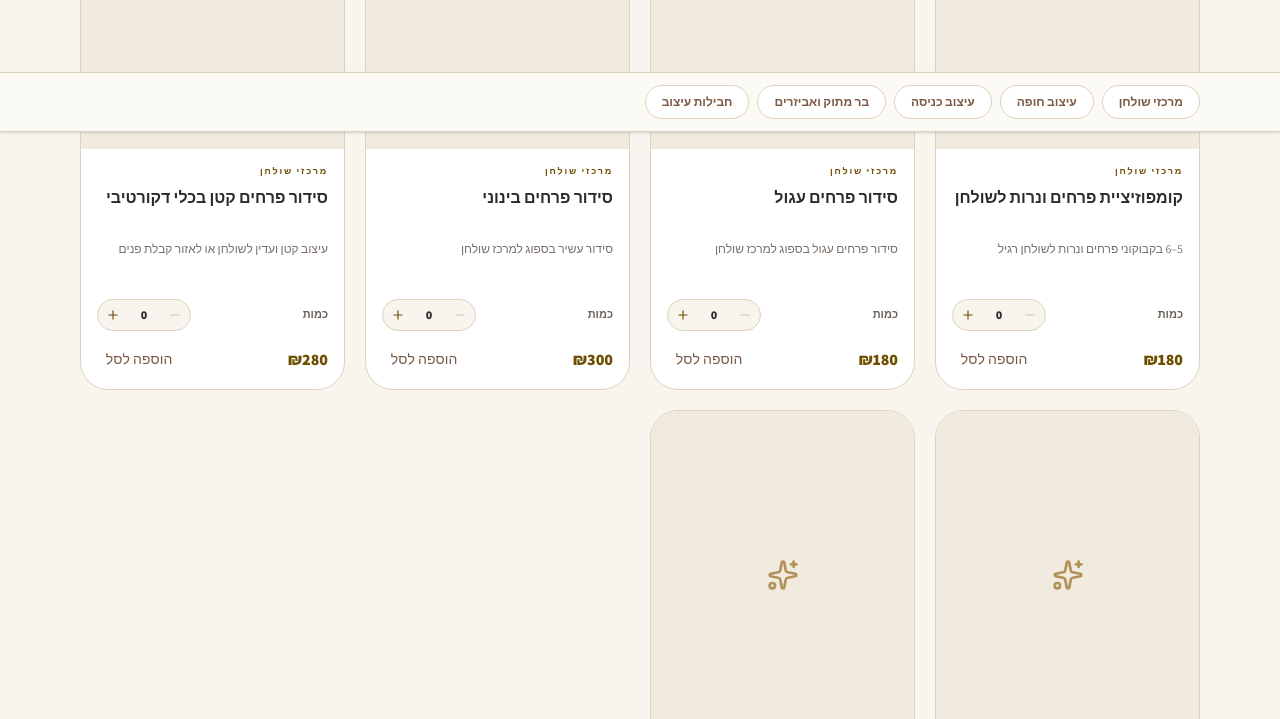
Test case: HomePage › keeps one explicit add-to-cart button per product and supports quantity controls
(page scrolled)
Click the button "הוספה לסל" below "5–6 בקבוקוני פרחים ונרות לשולחן רגיל" at (994, 360), box [952, 347, 1036, 373]
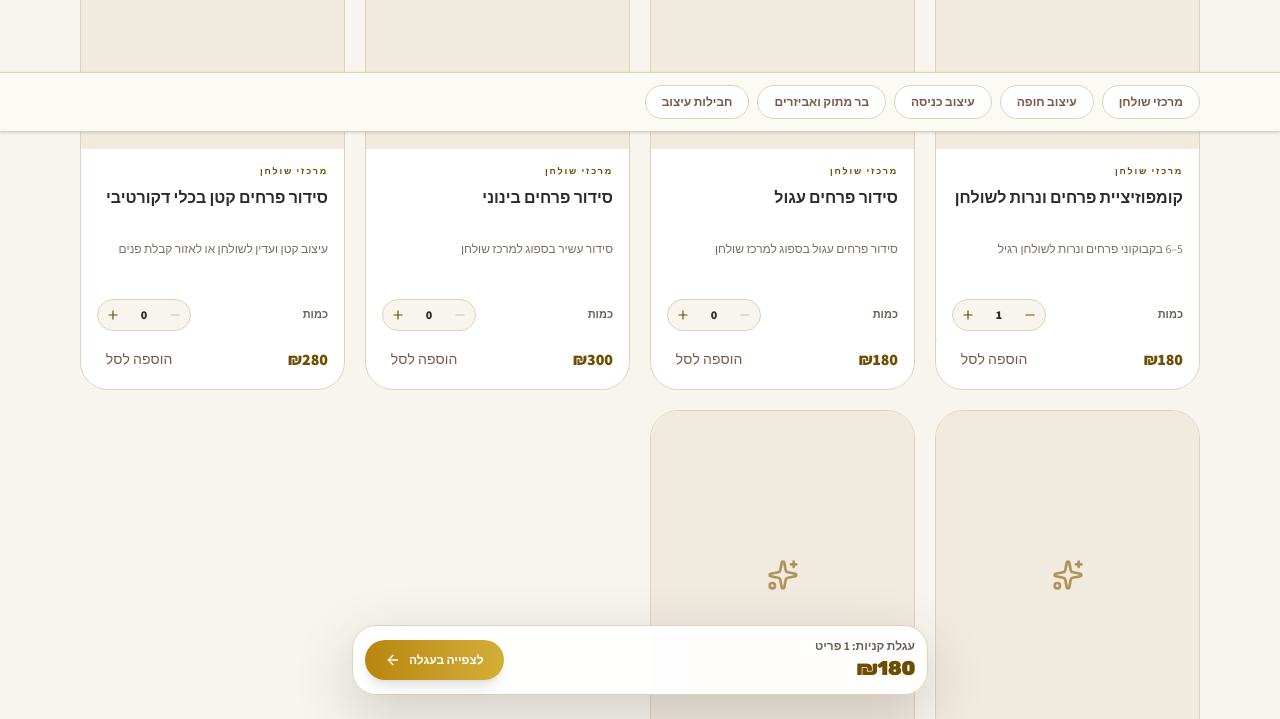
Click the button named "הגדלת כמות קומפוזיציית פרחים ונרות לשולחן" at (968, 315), box [953, 300, 983, 330]
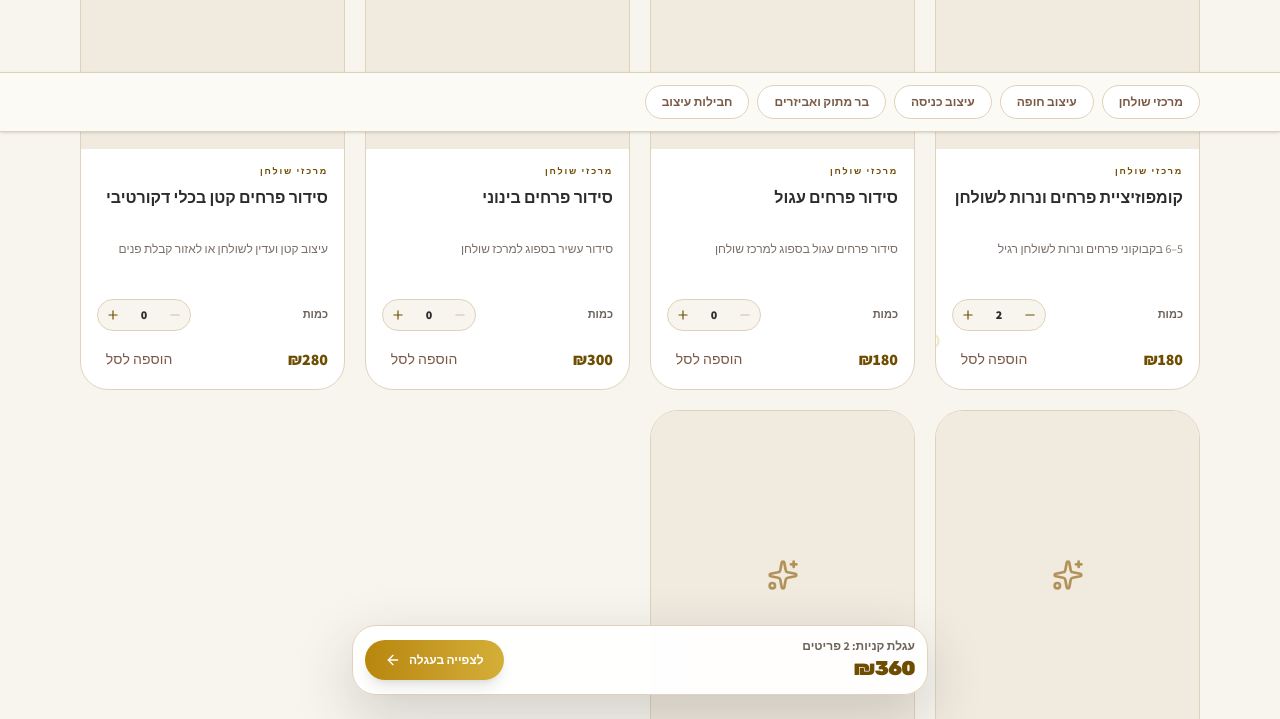
Click the button named "הפחתת כמות קומפוזיציית פרחים ונרות לשולחן" at (1030, 315), box [1015, 300, 1045, 330]
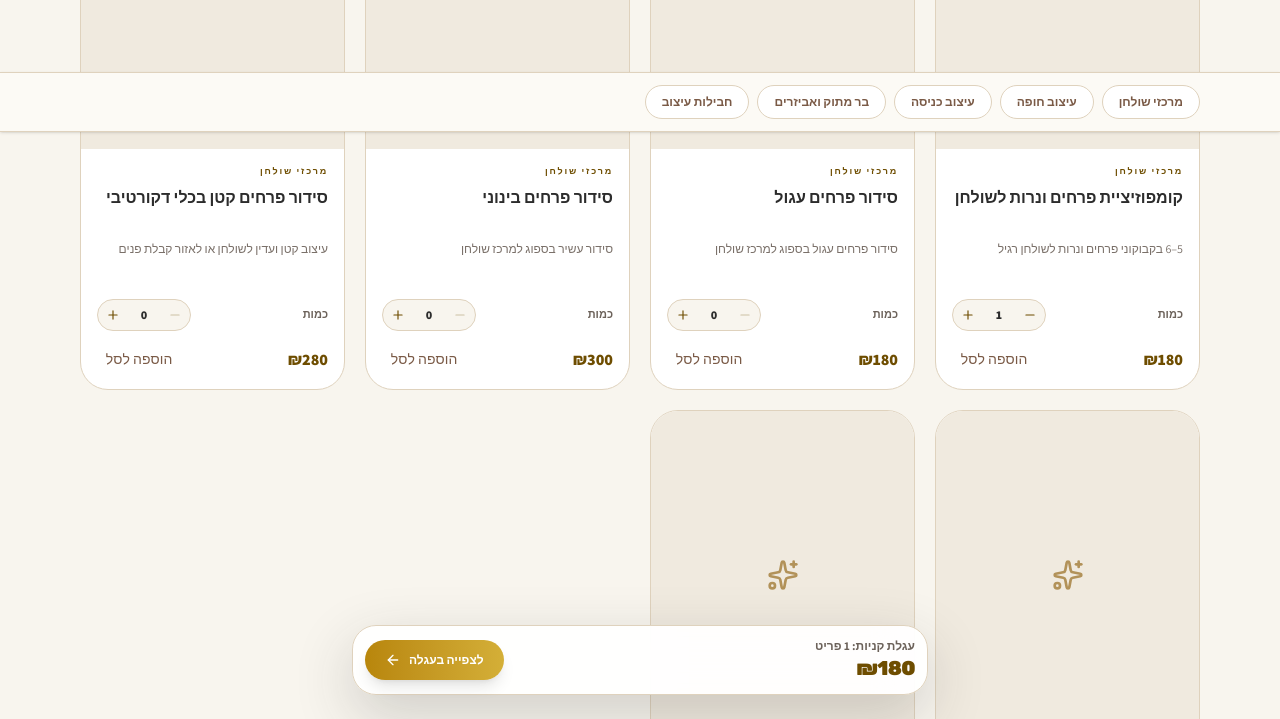
Result: the text "עגלת קניות: 1 פריט" is shown at [815, 638, 915, 654]
